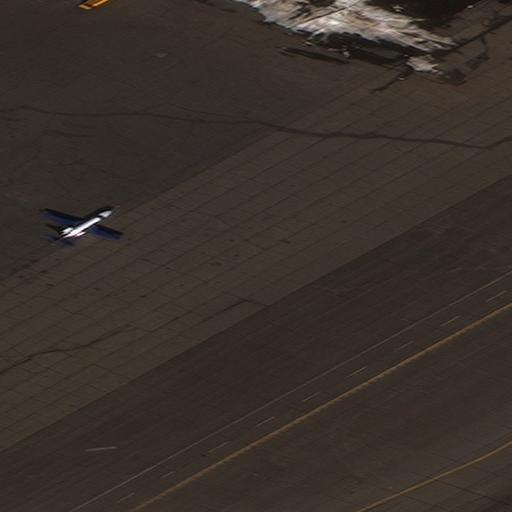Medium Civil Transport: (43, 209, 121, 244)
